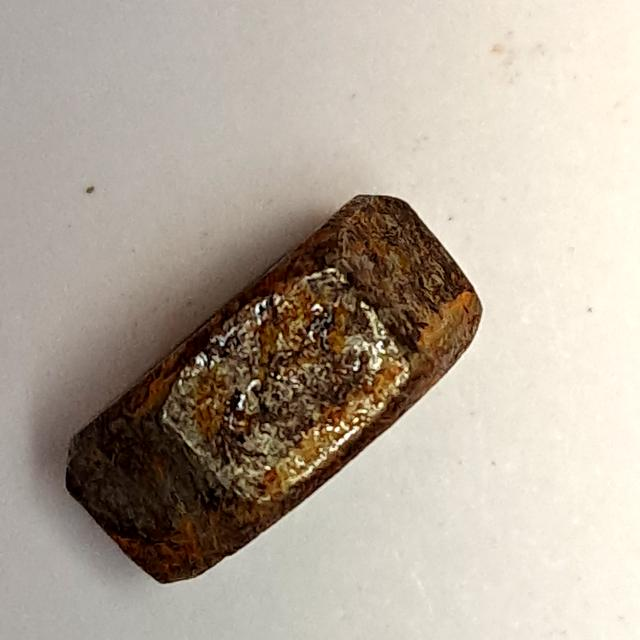Side_Rust: (55, 188, 502, 600)
